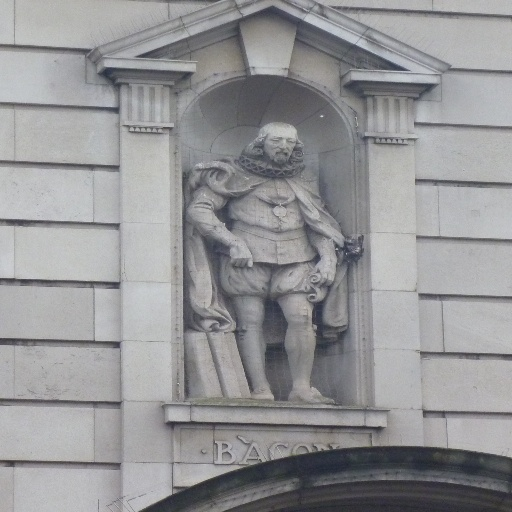hand: (307, 259, 338, 288), (227, 240, 253, 267)
